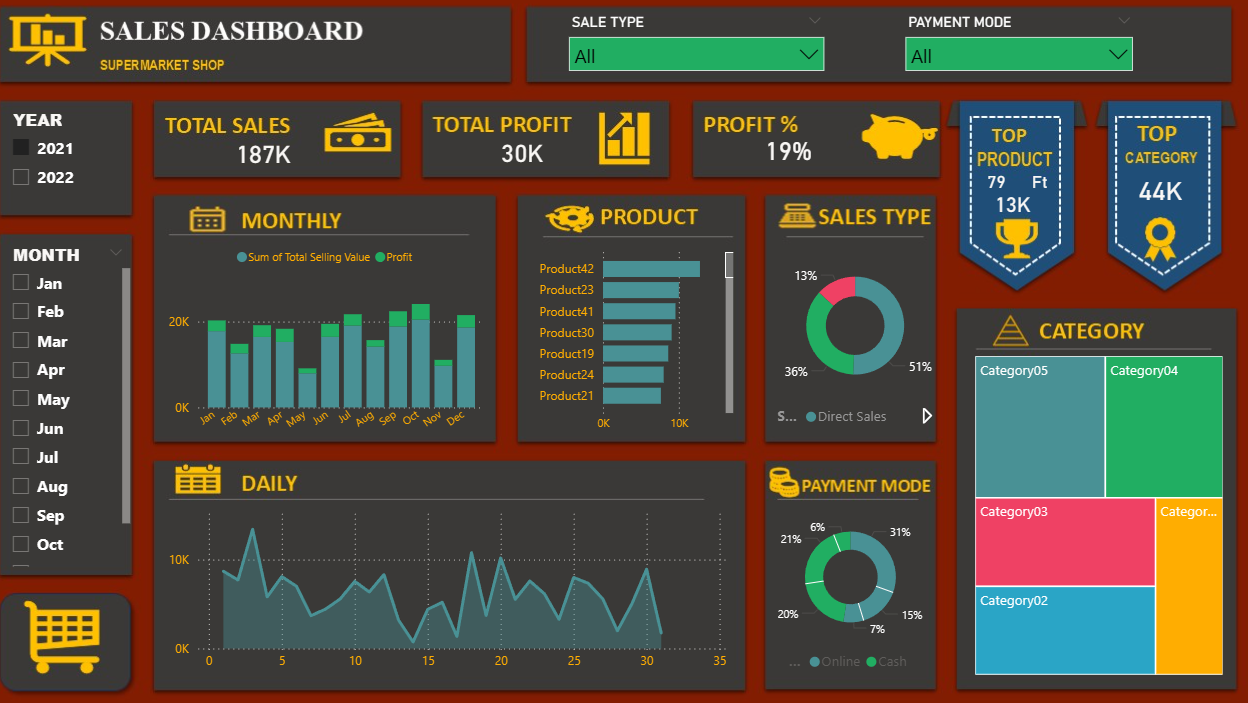

This screenshot's page, from the dashboard's own definition file:
{"tool":"powerbi","page":{"name":"Page 1","canvas":[1280,720],"ordinal":0},"visuals":[{"type":"slicer","fields":{"Values":["InputData.Year"]},"box":[19,112.8,163.1,134.6],"z":0},{"type":"slicer","fields":{"Values":["InputData.SALE TYPE"]},"box":[576.4,19,274.6,68],"z":1000},{"type":"slicer","fields":{"Values":["InputData.PAYMENT MODE"]},"box":[912.2,19,247.4,85.6],"z":2000},{"type":"slicer","fields":{"Values":["InputData.Month Name"]},"box":[19,247.4,134.6,333.1],"z":3000},{"type":"card","fields":{"Values":["Sum(InputData.Total Selling Value)"]},"box":[929.8,159.1,198.5,110.1],"z":4000},{"type":"card","fields":{"Values":["Sum(InputData.Total Selling Value)"]},"box":[1072.6,149.5,208,99.2],"z":5000},{"type":"card","fields":{"Values":["Sum(InputData.QUANTITY)"]},"box":[939.4,137.3,146.8,110.1],"z":6000},{"type":"card","fields":{"Values":["Min(InputData.MasterData.UOM)"]},"box":[965.2,137.3,182.2,110.1],"z":7000},{"type":"card","fields":{"Values":["InputData.Profit%"]},"box":[716.4,104.7,178.1,110.1],"z":8000},{"type":"card","fields":{"Values":["InputData.Profit"]},"box":[439.1,115.6,201.2,93.8],"z":9000},{"type":"card","fields":{"Values":["Sum(InputData.Total Selling Value)"]},"box":[201.2,116.9,160.4,92.4],"z":10000},{"type":"columnChart","fields":{"Category":["InputData.Month Name"],"Y":["Sum(InputData.Total Selling Value)","InputData.Profit"]},"box":[182.2,247.4,324.9,201.2],"z":11000},{"type":"clusteredBarChart","fields":{"Y":["Sum(InputData.Total Selling Value)"],"Category":["InputData.MasterData.PRODUCT"]},"box":[546.5,248.8,209.3,201.2],"z":12000},{"type":"areaChart","fields":{"Y":["Sum(InputData.Total Selling Value)"],"Category":["InputData.Day"]},"box":[182.2,509.8,569.6,178.1],"z":13000},{"type":"donutChart","fields":{"Y":["Sum(InputData.Total Selling Value)"],"Category":["InputData.SALE TYPE"]},"box":[789.8,254.2,164.5,190.3],"z":14000},{"type":"donutChart","fields":{"Category":["InputData.PAYMENT MODE"],"Series":["InputData.SALE TYPE"],"Y":["Sum(InputData.Total Selling Value)"]},"box":[789.8,511.1,155,178.1],"z":15000},{"type":"treemap","fields":{"Group":["InputData.MasterData.CATEGORY"],"Values":["Sum(InputData.Total Selling Value)"]},"box":[986.9,360.2,256.9,327.6],"z":16000}]}

Visuals, with their boxes in screenshot pixels (x1, y1, x2, y2), scaled from the page's 1280x720 canvas onto the 1248x703 screenshot:
slicer - InputData.Year: box(19, 110, 178, 242)
slicer - InputData.SALE TYPE: box(562, 19, 830, 85)
slicer - InputData.PAYMENT MODE: box(889, 19, 1131, 102)
slicer - InputData.Month Name: box(19, 242, 150, 567)
card - Sum(InputData.Total Selling Value): box(907, 155, 1100, 263)
card - Sum(InputData.Total Selling Value): box(1046, 146, 1247, 243)
card - Sum(InputData.QUANTITY): box(916, 134, 1059, 242)
card - Min(InputData.MasterData.UOM): box(941, 134, 1119, 242)
card - InputData.Profit%: box(698, 102, 872, 210)
card - InputData.Profit: box(428, 113, 624, 204)
card - Sum(InputData.Total Selling Value): box(196, 114, 353, 204)
columnChart - InputData.Month Name x Sum(InputData.Total Selling Value): box(178, 242, 494, 438)
clusteredBarChart - Sum(InputData.Total Selling Value) x InputData.MasterData.PRODUCT: box(533, 243, 737, 439)
areaChart - Sum(InputData.Total Selling Value) x InputData.Day: box(178, 498, 733, 672)
donutChart - Sum(InputData.Total Selling Value) x InputData.SALE TYPE: box(770, 248, 930, 434)
donutChart - InputData.PAYMENT MODE x InputData.SALE TYPE: box(770, 499, 921, 673)
treemap - InputData.MasterData.CATEGORY x Sum(InputData.Total Selling Value): box(962, 352, 1213, 672)
